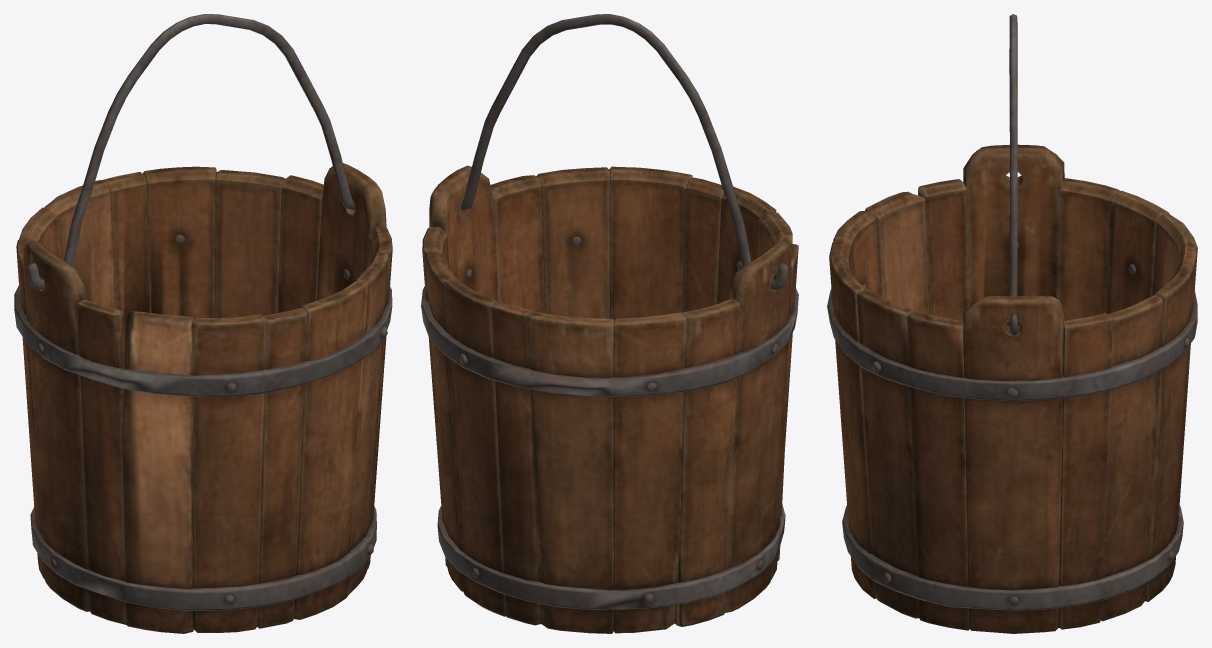
Rendered from wooden_bucket_01.glb.
The picture shows the model from 3 angles, left to right: view 1: azimuth 30°, elevation 25°; view 2: azimuth 150°, elevation 25°; view 3: azimuth 270°, elevation 25°; orthographic projection.
Visible parts, largest first — view 1: wooden_bucket_01, wooden_bucket_01_handle; view 2: wooden_bucket_01, wooden_bucket_01_handle; view 3: wooden_bucket_01, wooden_bucket_01_handle.
Boxes of the visible parts, x1=… form: wooden_bucket_01: x1=14, y1=163, x2=392, y2=633; wooden_bucket_01_handle: x1=28, y1=14, x2=354, y2=289; wooden_bucket_01: x1=421, y1=165, x2=798, y2=633; wooden_bucket_01_handle: x1=438, y1=14, x2=787, y2=290; wooden_bucket_01: x1=827, y1=144, x2=1197, y2=633; wooden_bucket_01_handle: x1=1009, y1=14, x2=1017, y2=335.
Bounding box in the file's own units: 0.367 × 0.5499 × 0.3419.
Materials: 1 (1 with a texture image).
